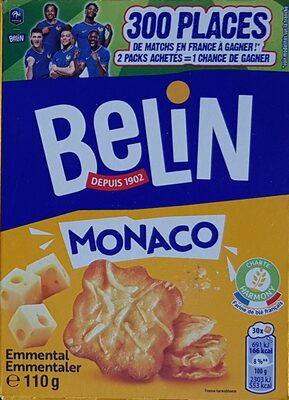Monaco Emmental: (14, 20, 275, 380)
